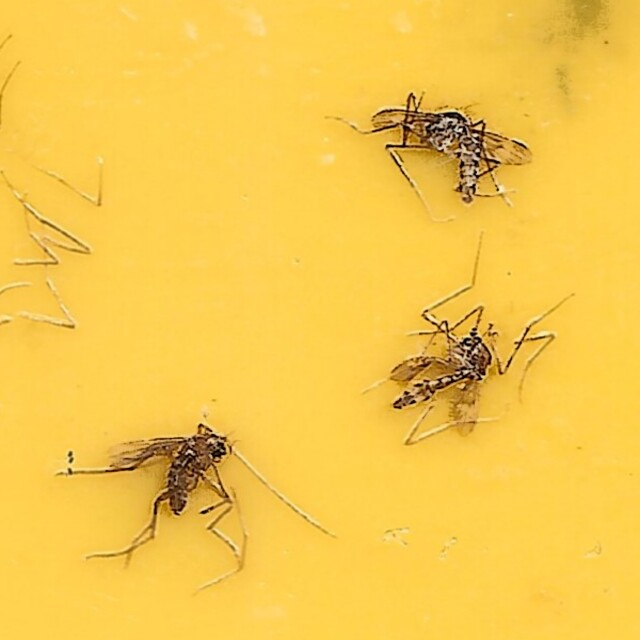Nematocera: (373, 100, 533, 214), (382, 301, 514, 430), (107, 428, 239, 540)
